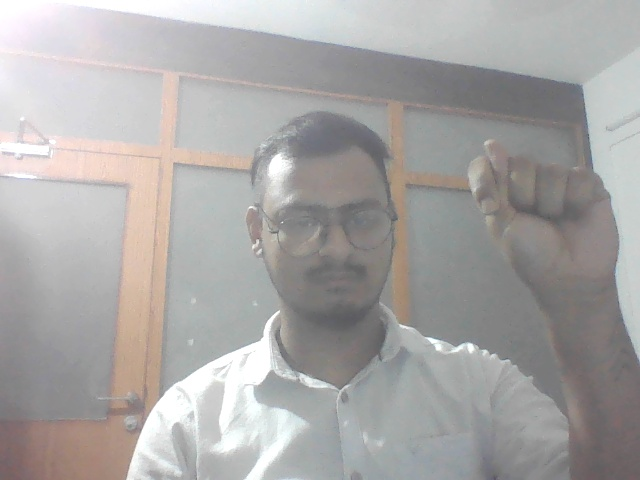Toilet: (464, 130, 626, 289)
